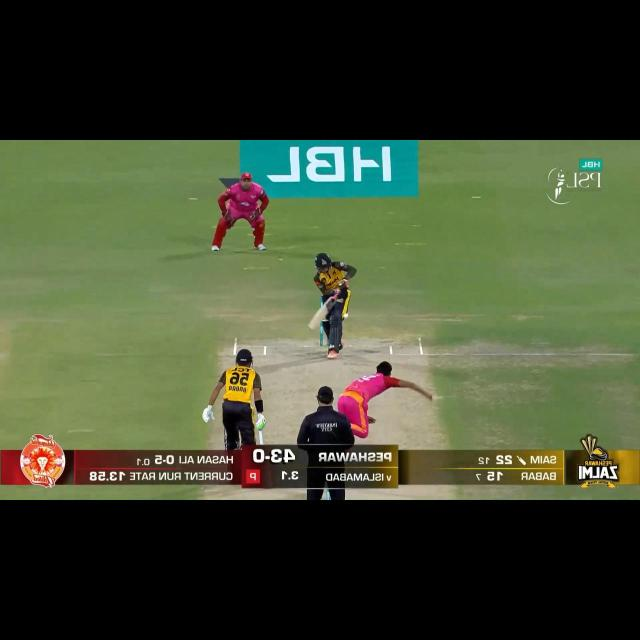bat: (308, 297, 337, 330)
toe: (306, 324, 318, 333)
